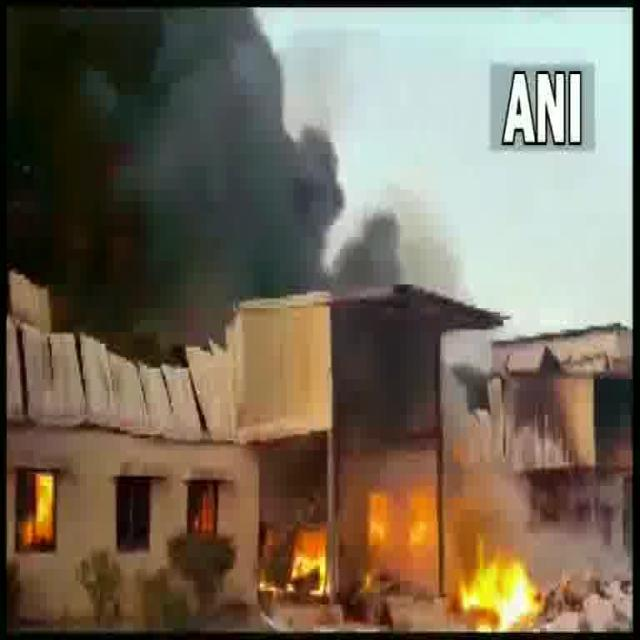Fire: (458, 538, 526, 622)
Smoke: (12, 17, 276, 334), (528, 528, 613, 586), (487, 468, 543, 527)
